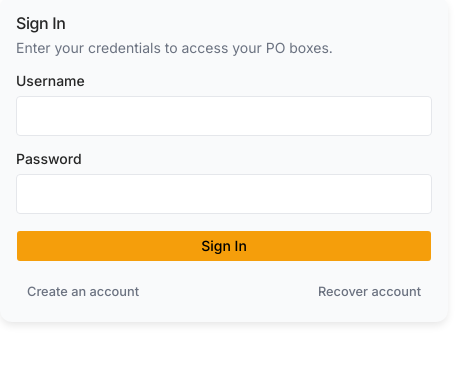
Test: LoginPage › shows error on failed login
expect the button "Sign In" is shown: met, box [16,230,432,262]
Type "alice" into the field labelled "Username".
click(224, 116); type("alice")  # box [16,96,432,136]
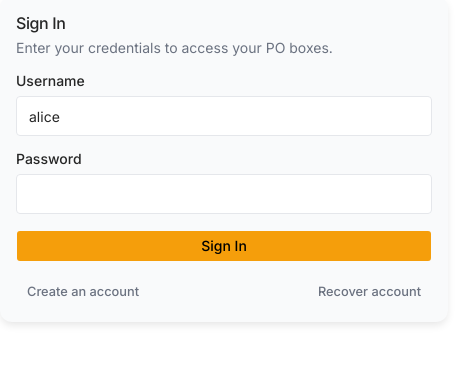
Type "wrong" into the password field labelled "Password".
click(224, 194); type("wrong")  # box [16,174,432,214]
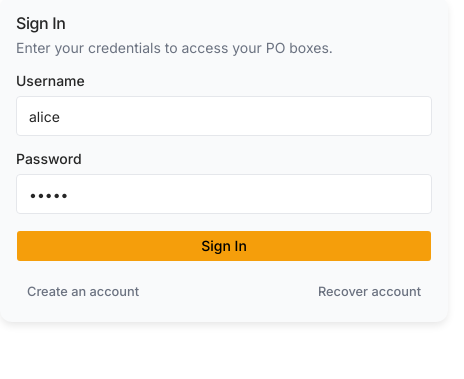
Click the button "Sign In".
click(224, 246)  # box [16,230,432,262]
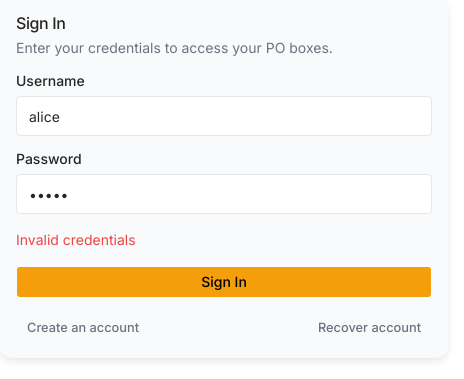
expect the text "Invalid credentials" is shown: met, box [16,231,136,248]
